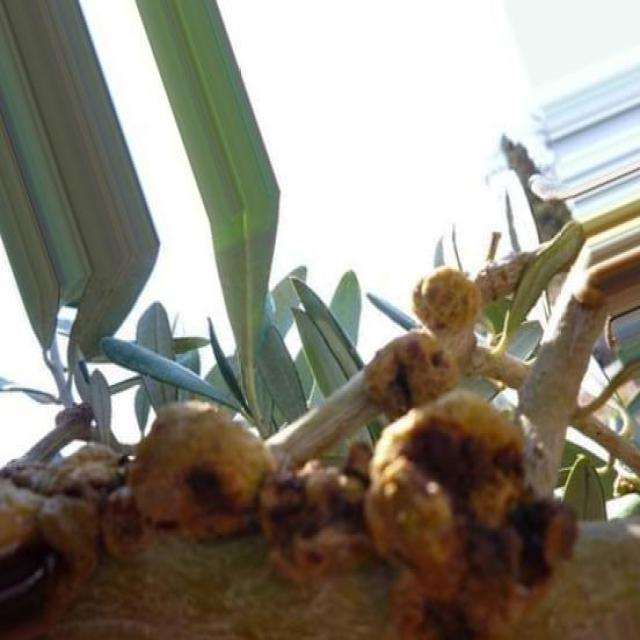Tuberculosis: (0, 400, 376, 638), (365, 396, 576, 638), (362, 255, 529, 417)
